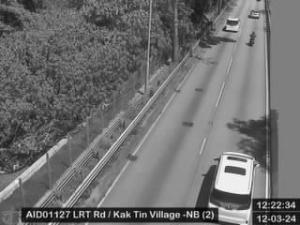bus: (224, 16, 240, 32)
vehicle: (207, 151, 257, 225), (224, 16, 240, 32), (248, 10, 260, 20)
